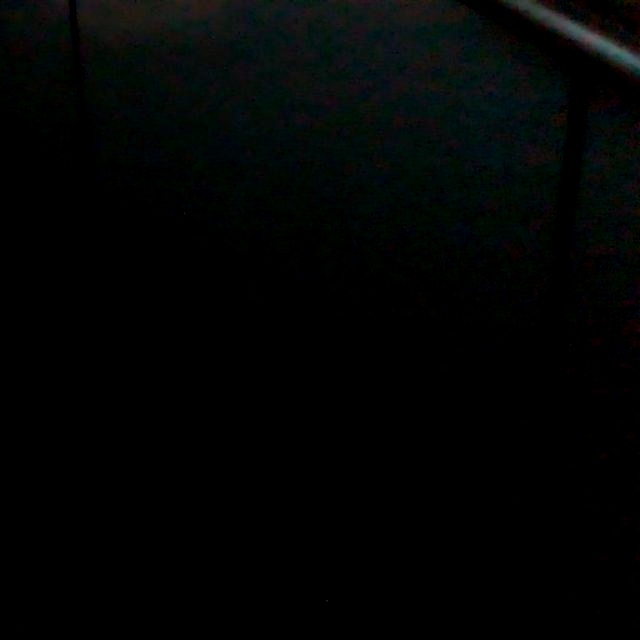stair: (3, 166, 338, 640)
